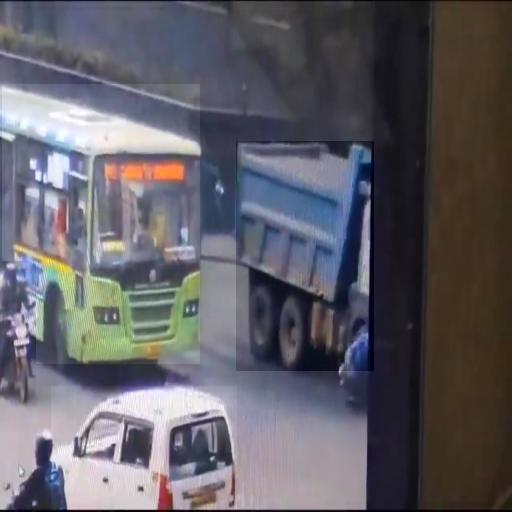小汽车: (2, 84, 200, 364), (236, 141, 374, 371), (51, 386, 237, 510)
自行车: (2, 262, 36, 402)
